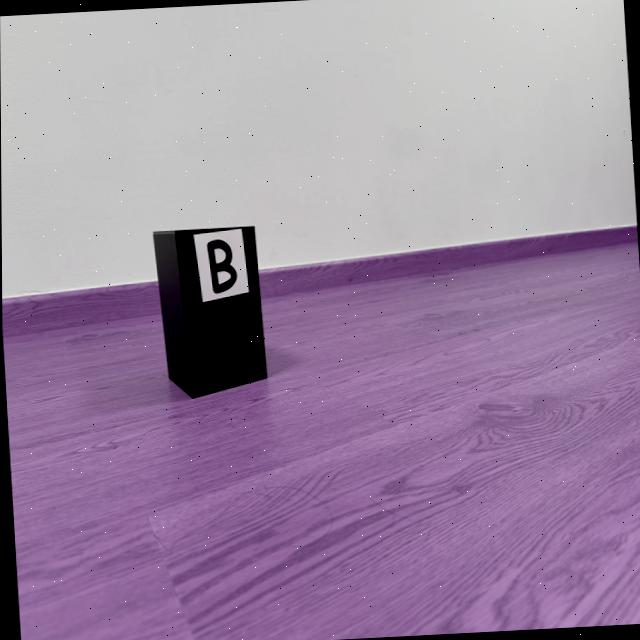B: (206, 239, 237, 294)
